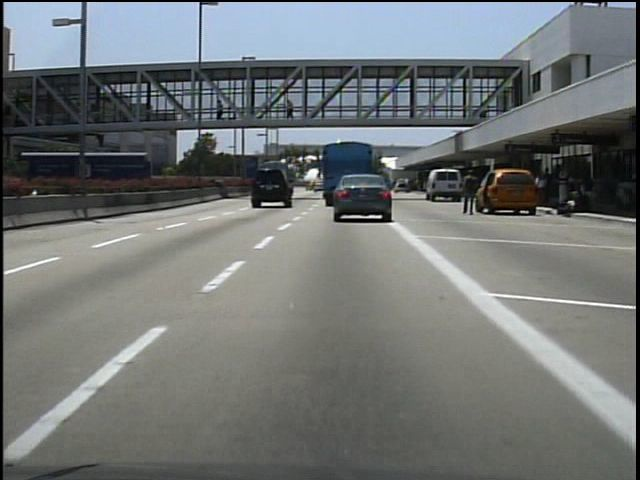person: (459, 167, 482, 220), (214, 94, 229, 122), (284, 97, 299, 124)
